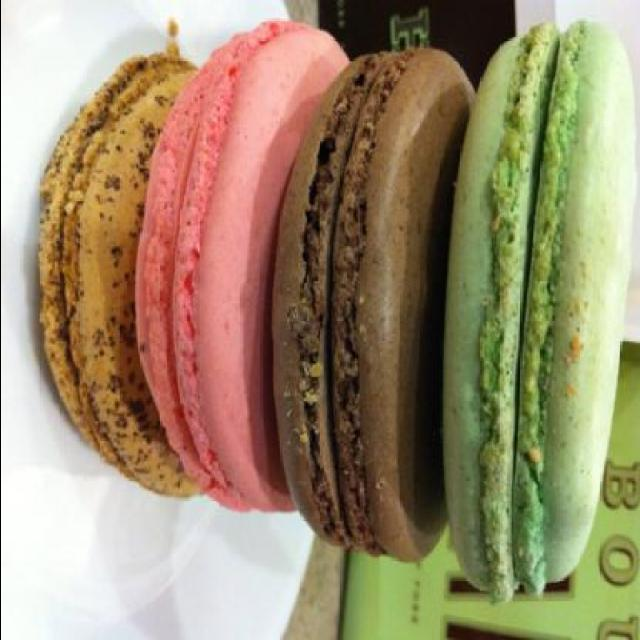Macaron: (22, 6, 636, 536)
